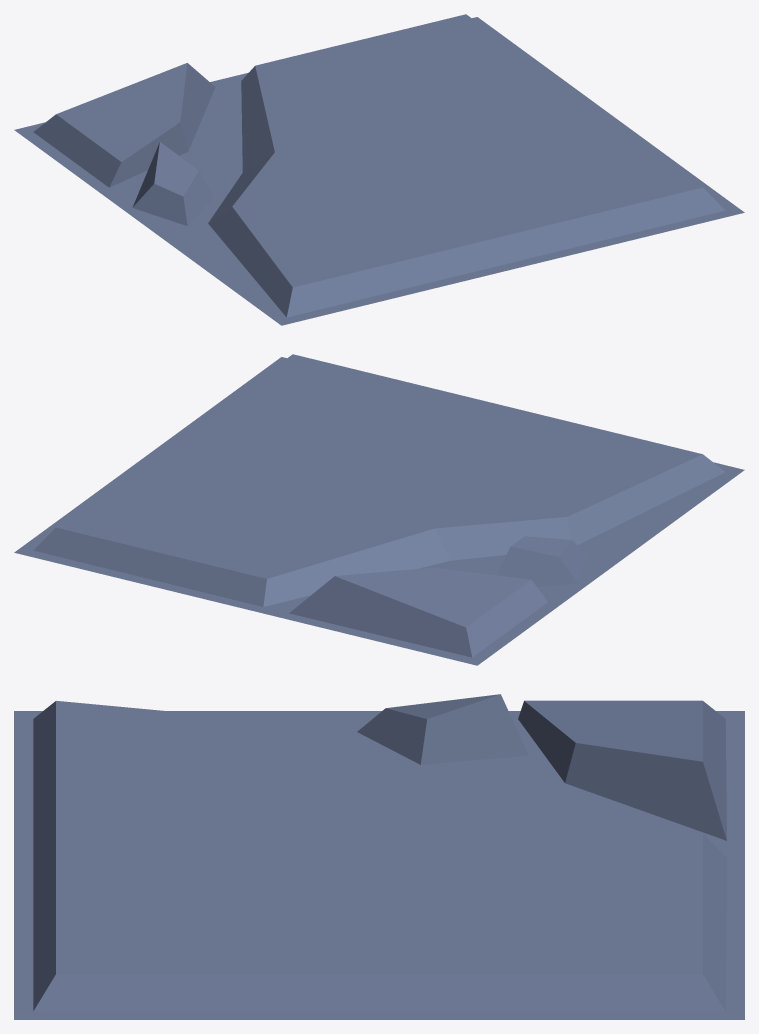
The model's file is piso.fbx.
3 renders of one model, top to bottom at view 1: azimuth 30°, elevation 25°; view 2: azimuth 150°, elevation 25°; view 3: azimuth 270°, elevation 25°, orthographic. The views are drawn at different scales.
Visible parts, largest first — view 1: tile.005; view 2: tile.005; view 3: tile.005.
Boxes of the visible parts, x1,y1,x2,y2 form: tile.005: (14,14,744,325); tile.005: (14,354,744,665); tile.005: (14,694,744,1019).
Bounding box in the file's own units: 105 × 8.66 × 105.
